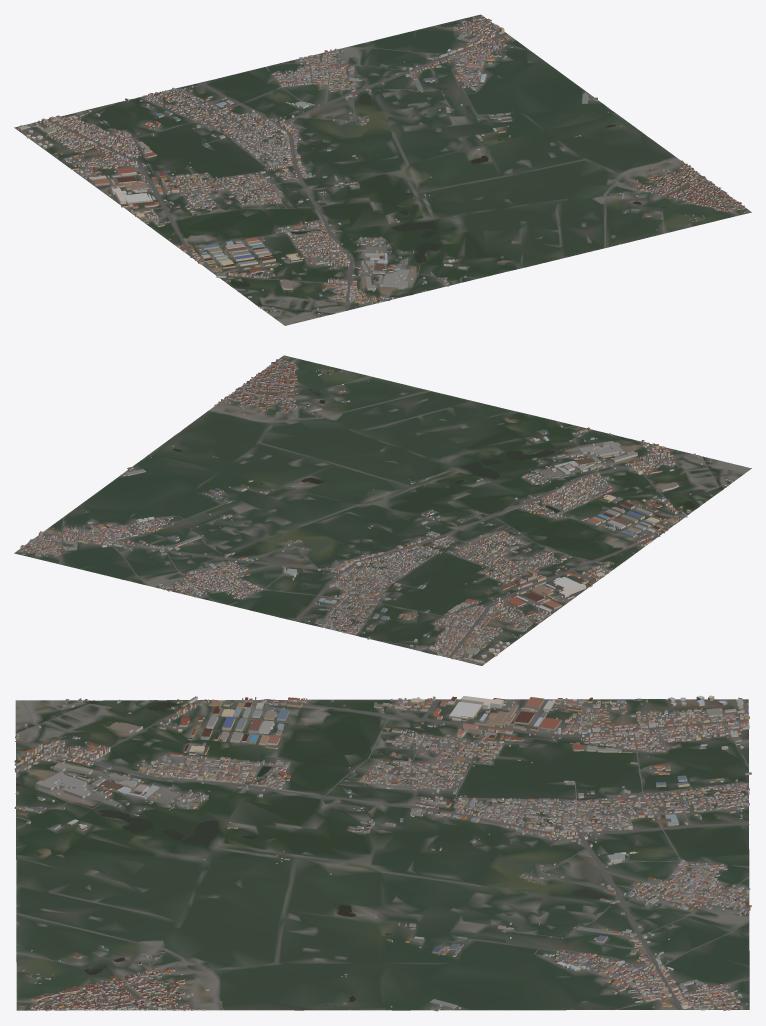
3 views of the same model, one above another, from view 1: azimuth 30°, elevation 25°; view 2: azimuth 150°, elevation 25°; view 3: azimuth 270°, elevation 25° (orthographic). The views are drawn at different scales.
Parts seen in each view (by area): view 1: ground, buildings, roads, water; view 2: ground, buildings, roads, water; view 3: ground, buildings, roads, water.
Part boxes in pixels (<box>): ground: <box>14,14,751,325</box>; buildings: <box>16,15,745,314</box>; roads: <box>16,17,741,323</box>; water: <box>229,93,668,314</box>; ground: <box>14,355,751,665</box>; buildings: <box>17,357,732,664</box>; roads: <box>21,359,748,664</box>; water: <box>140,389,723,556</box>; ground: <box>15,699,749,1010</box>; buildings: <box>14,695,751,1011</box>; roads: <box>14,699,749,1010</box>; water: <box>15,700,607,1010</box>.
Bounding box in the file's own units: 2817 × 38.77 × 2823.
